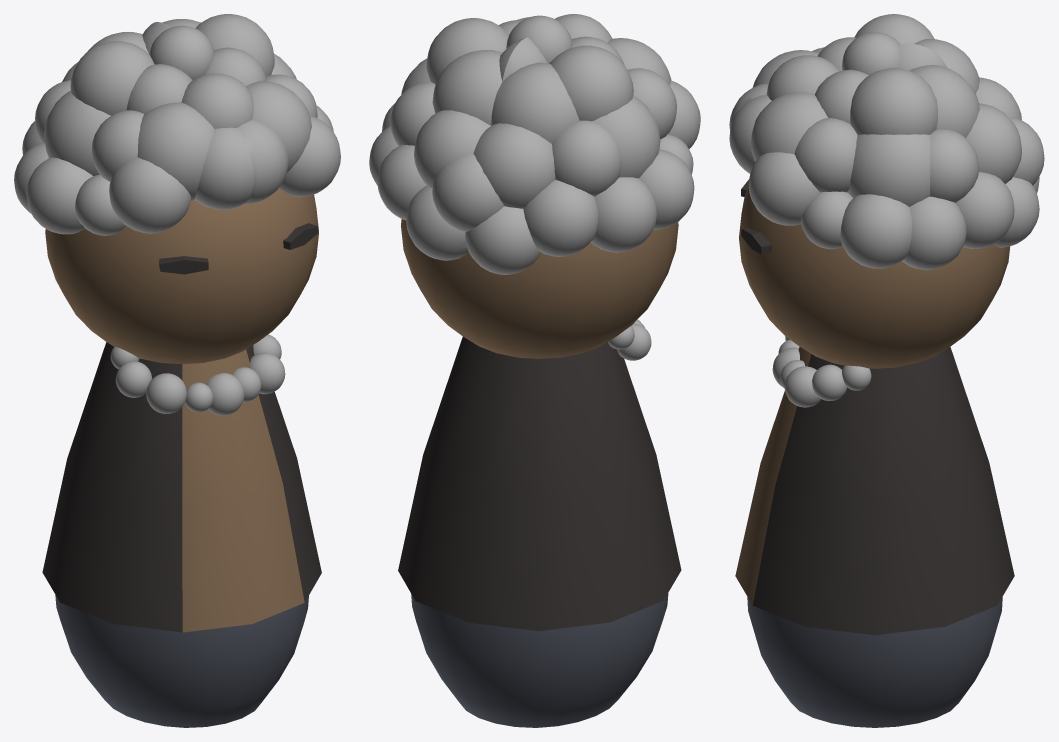
Rendered from SM_character_granny.fbx.
3 views of the same model, side by side, from view 1: azimuth 30°, elevation 25°; view 2: azimuth 150°, elevation 25°; view 3: azimuth 270°, elevation 25° (orthographic). The views are drawn at different scales.
Parts seen in each view (by area): view 1: pCylinder20, pSphere3, pSphere2, pCylinder7, pSphere5, pSphere4, pSphere20, pSphere17, pSphere21, pSphere22, pCylinder22, pSphere18 (+2 smaller); view 2: pCylinder20, pSphere3, pSphere2, pCylinder7, pSphere6, pSphere4, pSphere5, pSphere21; view 3: pCylinder20, pSphere3, pSphere2, pCylinder7, pSphere5, pSphere4, pSphere6, pSphere22, pSphere23, pSphere24, pCylinder21.
Part boxes in pixels (bbox=[...]): pCylinder20: bbox=[42, 342, 321, 632]; pSphere3: bbox=[14, 14, 340, 235]; pSphere2: bbox=[45, 187, 318, 363]; pCylinder7: bbox=[55, 595, 308, 727]; pSphere5: bbox=[181, 73, 253, 128]; pSphere4: bbox=[149, 25, 214, 80]; pSphere20: bbox=[146, 373, 186, 413]; pSphere17: bbox=[206, 373, 244, 415]; pSphere21: bbox=[115, 361, 151, 397]; pSphere22: bbox=[249, 352, 285, 394]; pCylinder22: bbox=[159, 256, 208, 274]; pSphere18: bbox=[185, 382, 212, 412]; pCylinder20: bbox=[398, 336, 681, 631]; pSphere3: bbox=[369, 17, 700, 274]; pSphere2: bbox=[401, 219, 678, 358]; pCylinder7: bbox=[411, 593, 668, 727]; pSphere6: bbox=[432, 153, 503, 231]; pSphere4: bbox=[506, 15, 572, 63]; pSphere5: bbox=[555, 14, 612, 42]; pSphere21: bbox=[617, 323, 651, 360]; pCylinder20: bbox=[735, 347, 1014, 635]; pSphere3: bbox=[729, 14, 1039, 270]; pSphere2: bbox=[739, 185, 1010, 368]; pCylinder7: bbox=[747, 597, 1002, 727]; pSphere5: bbox=[767, 55, 839, 100]; pSphere4: bbox=[842, 32, 901, 75]; pSphere6: bbox=[1010, 118, 1044, 185]; pSphere22: bbox=[784, 366, 821, 407]; pSphere23: bbox=[812, 364, 846, 400]; pSphere24: bbox=[842, 365, 871, 390]; pCylinder21: bbox=[741, 227, 772, 254].
Bounding box in the file's own units: 27.4 × 58.27 × 25.25.
